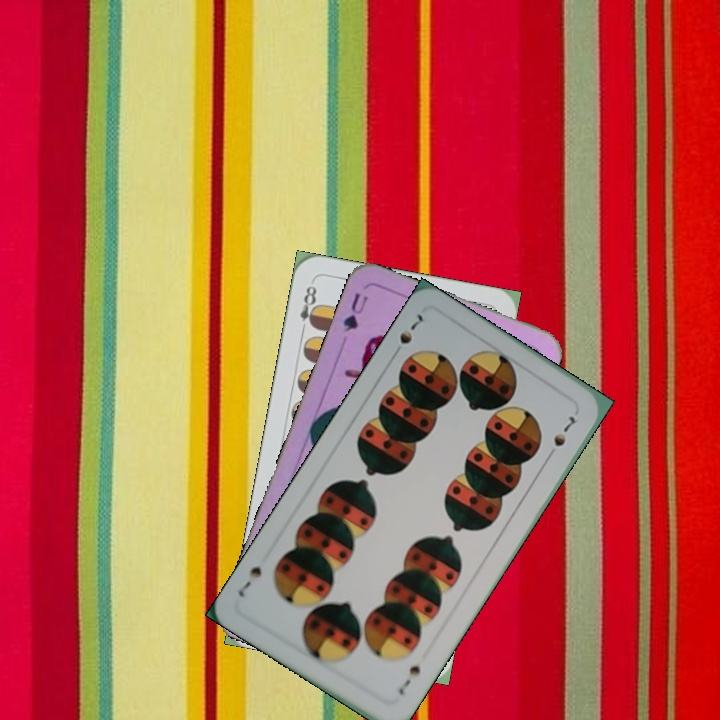E8: (296, 281, 321, 337)
GU: (339, 288, 371, 335)
S7: (388, 310, 428, 360), (394, 661, 424, 698)
